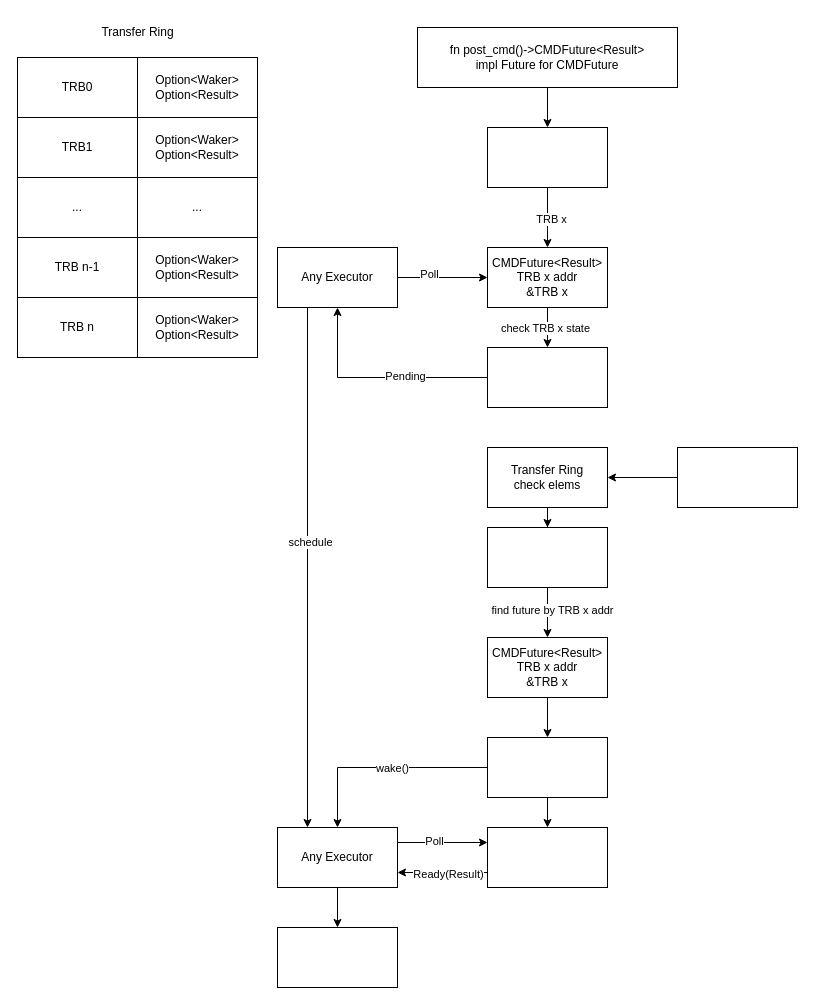
Image size: 815x1005. Some labels were removed from this diagram. The centre of each missing label's shape, as x and y in pixels:
"CMDFuture" goes at [547,857].
"CMDFuture<Result> set Some(waker)" goes at [547,377].
"event Irq" goes at [737,477].
"Result" goes at [337,957].
"set Some(Result) Waker.wake()" goes at [547,767].
"Transfer Ring get next TRB" goes at [547,157].
"TRB x got result" goes at [547,557].
